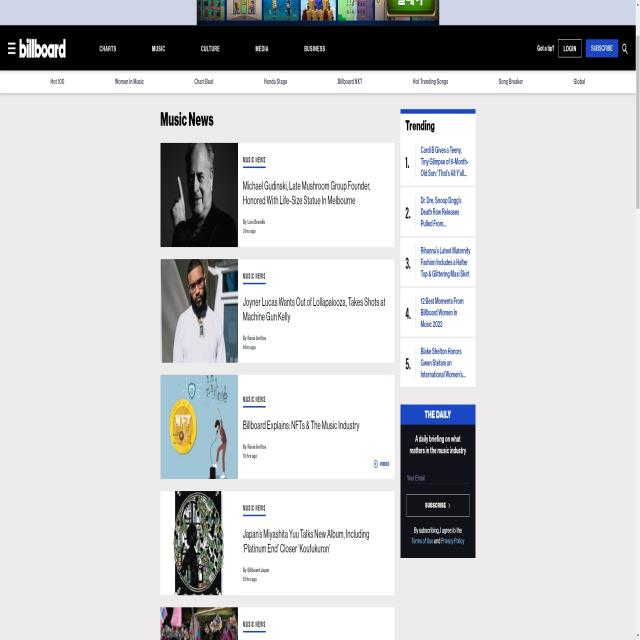content: (242, 293, 388, 332), (243, 172, 375, 214), (241, 526, 377, 566), (240, 415, 362, 438)
menu-bar: (86, 32, 338, 68)
side-panel: (401, 111, 472, 386)
tab-bar: (46, 71, 592, 93)
